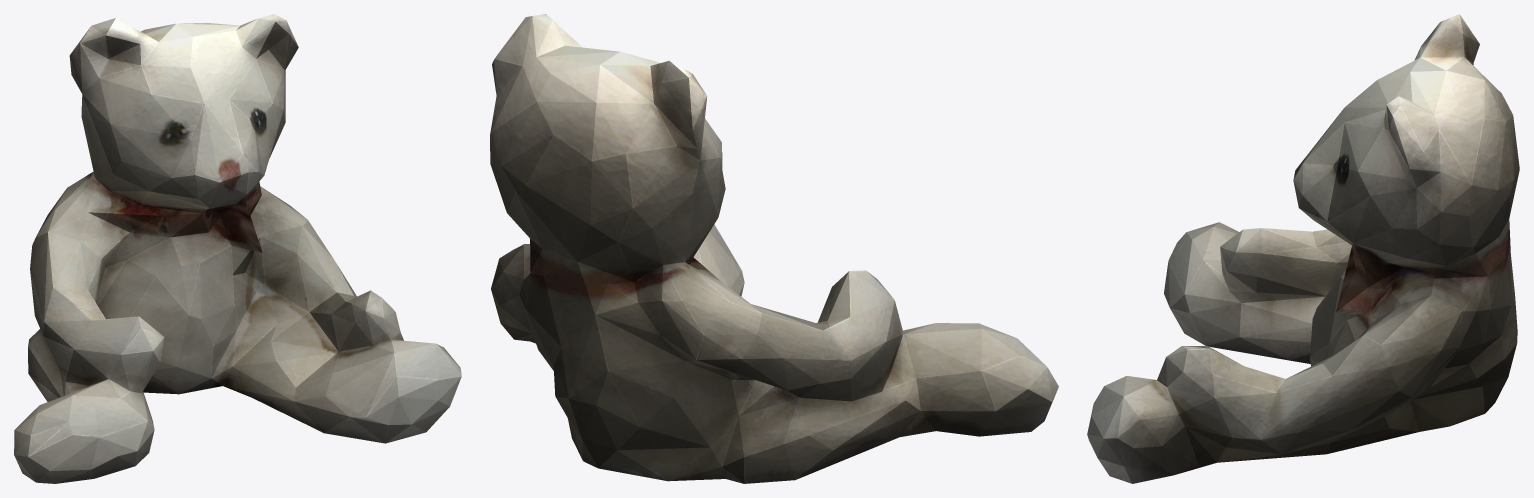
3 views of the same model, side by side, from view 1: azimuth 30°, elevation 25°; view 2: azimuth 150°, elevation 25°; view 3: azimuth 270°, elevation 25° (orthographic). The views are drawn at different scales.
Parts seen in each view (by area): view 1: Creamy_Mesh_reduced; view 2: Creamy_Mesh_reduced; view 3: Creamy_Mesh_reduced.
Boxes of the visible parts, left/top/right/bottom form: Creamy_Mesh_reduced: left=14, top=14, right=461, bottom=483; Creamy_Mesh_reduced: left=490, top=14, right=1058, bottom=483; Creamy_Mesh_reduced: left=1087, top=14, right=1519, bottom=483.
Size of the model in its own units: 130 by 105 by 110.
Materials: 1 (1 with a texture image).
